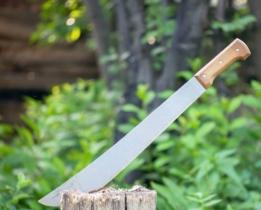MACHETTE: (37, 35, 261, 210)
